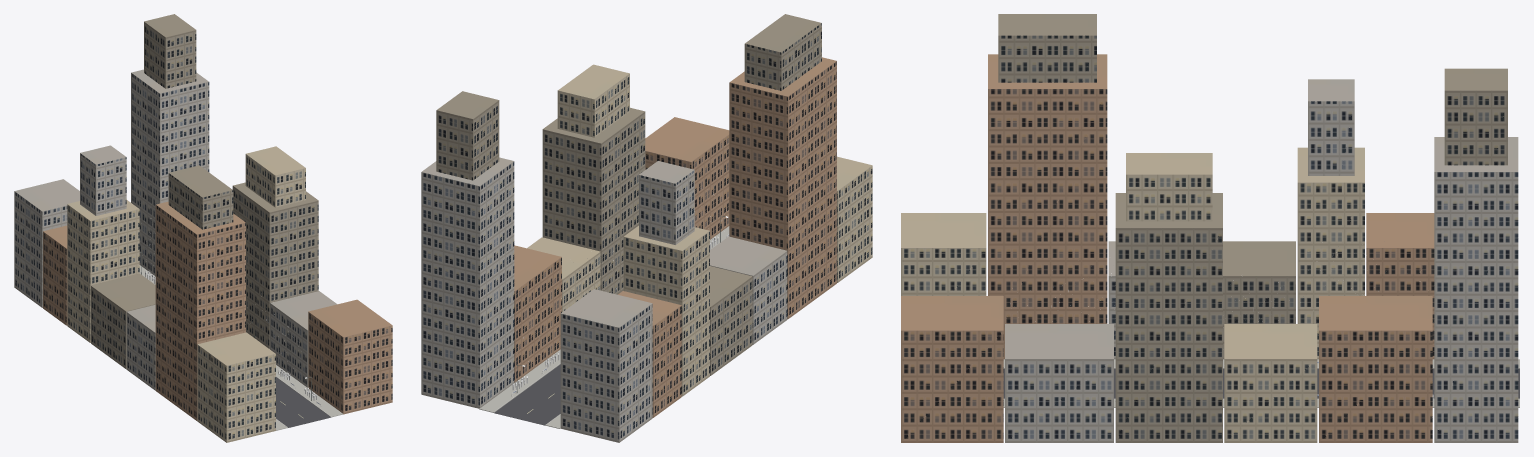
File: parade-street.glb
The picture shows the model from 3 angles, left to right: view 1: azimuth 30°, elevation 25°; view 2: azimuth 150°, elevation 25°; view 3: azimuth 270°, elevation 25°; orthographic projection. The views are drawn at different scales.
Parts seen in each view (by area): view 1: buildings-geo, street-geo; view 2: buildings-geo, street-geo; view 3: buildings-geo, street-geo.
Part boxes in pixels (x1,y1,x2,y2): buildings-geo: [14, 14, 392, 442]; street-geo: [139, 265, 343, 430]; buildings-geo: [421, 14, 872, 442]; street-geo: [479, 226, 729, 428]; buildings-geo: [901, 14, 1518, 442]; street-geo: [1003, 359, 1519, 407].
Size of the model in its own units: 54 by 74.05 by 120.
Materials: 20 (4 with a texture image).
